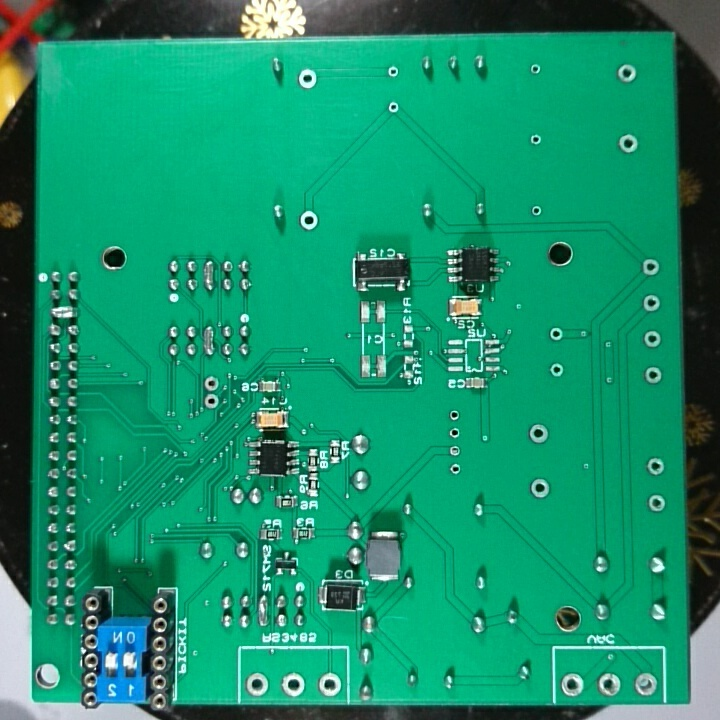F: (313, 666, 344, 701), (631, 668, 659, 700), (559, 670, 588, 700), (242, 670, 273, 698), (280, 669, 307, 700), (297, 206, 322, 236), (597, 672, 625, 698), (297, 63, 319, 92), (615, 62, 638, 89), (529, 475, 553, 500), (641, 329, 667, 352), (617, 132, 640, 157), (527, 421, 550, 446), (641, 255, 662, 281), (641, 291, 662, 315), (646, 491, 667, 515), (646, 455, 667, 478), (201, 390, 221, 413), (527, 129, 546, 152), (201, 374, 224, 393), (644, 365, 664, 386), (546, 362, 569, 380), (384, 98, 403, 118), (547, 326, 567, 344), (528, 201, 546, 221), (447, 406, 464, 426), (448, 439, 464, 460), (527, 60, 544, 79), (448, 423, 464, 443), (448, 459, 464, 479), (386, 63, 400, 83)
P: (200, 256, 216, 297), (200, 325, 219, 359), (256, 592, 272, 631), (50, 301, 81, 319)
